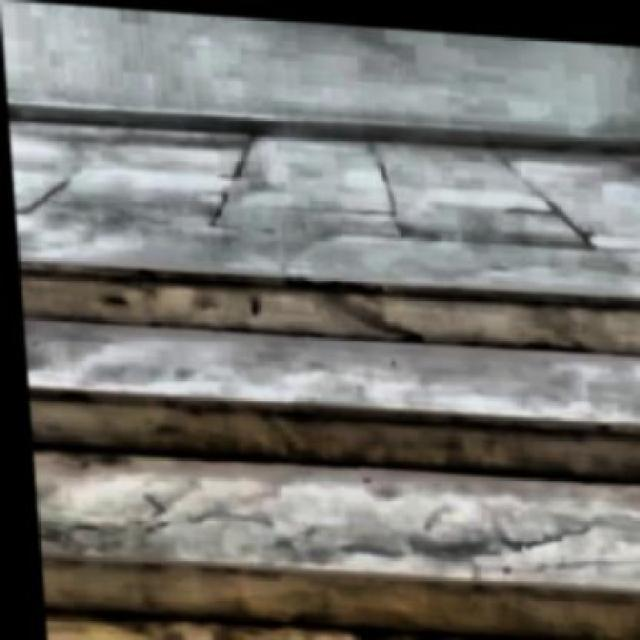stair: (19, 251, 638, 638)
